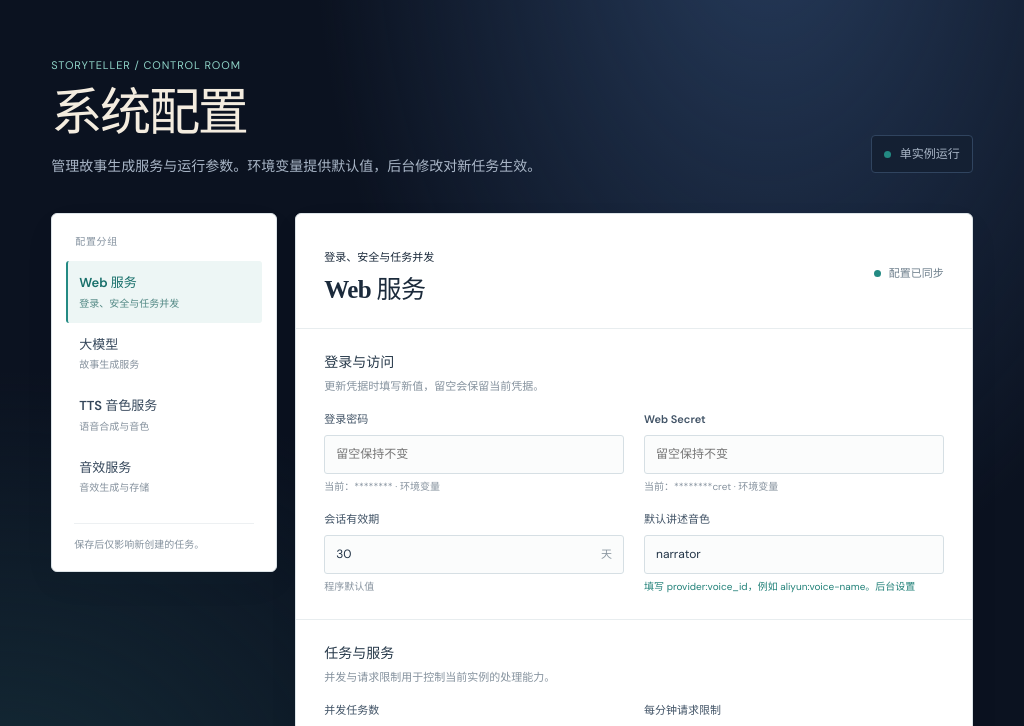
Test: SettingsView › auto-fetches models into checkboxes and switches the default
Click the button with test id "settings-nav-llm". click: point(164, 353)
box: [66, 323, 262, 384]
(page scrolled)
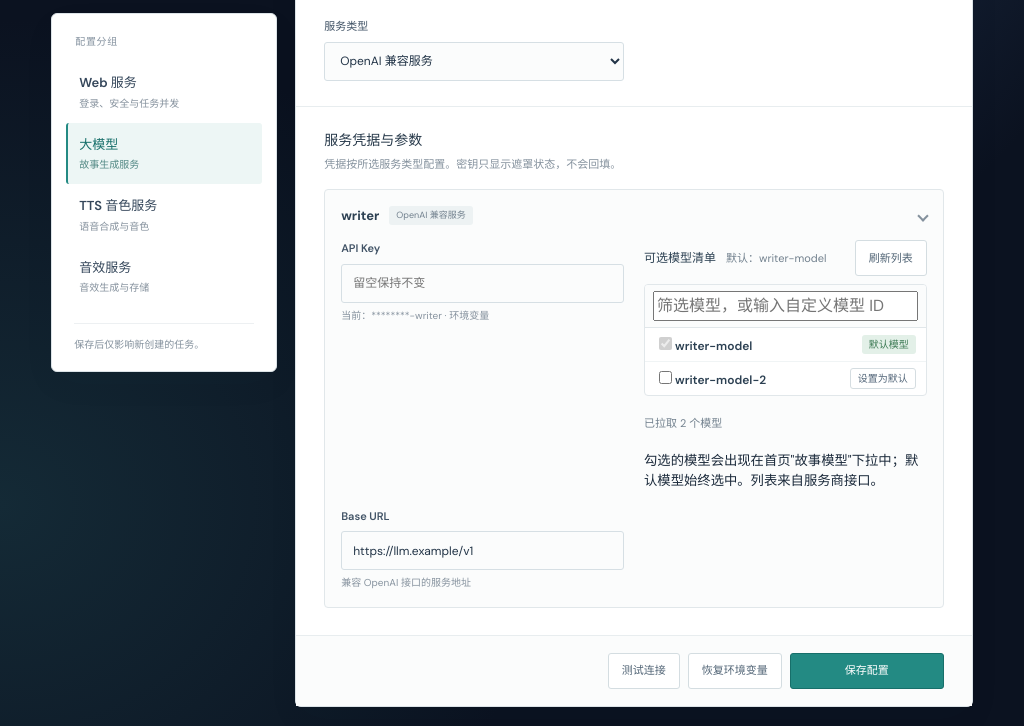
Result: the text with test id "fetch-models-status-llm-writer" reads "已拉取 2 个模型" at [644, 416, 722, 430]
Result: the list with test id "candidate-list-llm-writer" shows "writer-model" at [675, 338, 752, 354]
Result: the list with test id "candidate-list-llm-writer" shows "writer-model-2" at [675, 372, 766, 388]
Click the checkbox with test id "candidate-check-llm-writer-writer-model-2". click: point(666, 378)
box: [659, 371, 672, 384]
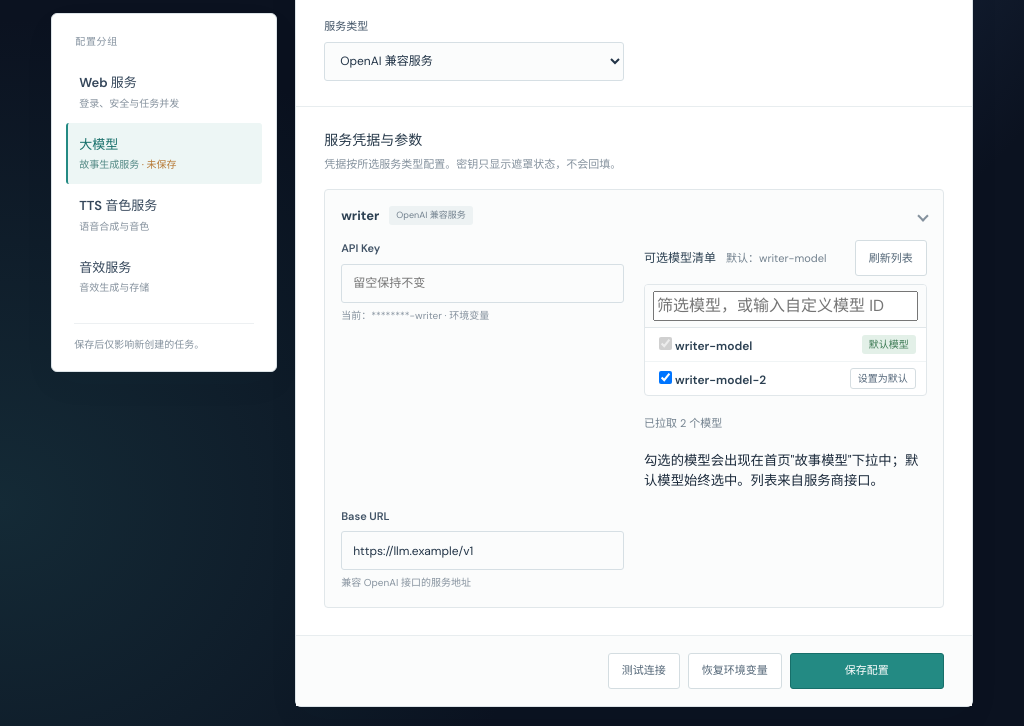
Click the button "设置为默认". click: point(883, 379)
box: [850, 368, 916, 389]
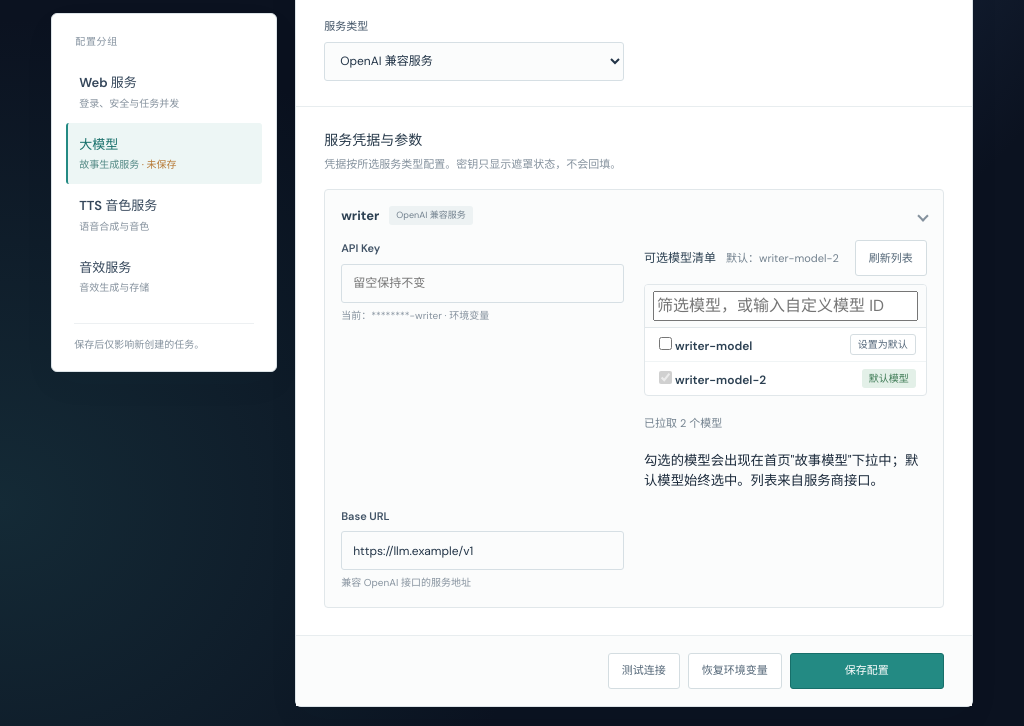
Result: the text with test id "candidate-current-llm-writer" shows "writer-model-2" at [726, 251, 839, 265]
Result: the checkbox with test id "candidate-check-llm-writer-writer-model" is not checked at [659, 337, 672, 350]
Result: the checkbox with test id "candidate-check-llm-writer-writer-model" is enabled at [659, 337, 672, 350]
